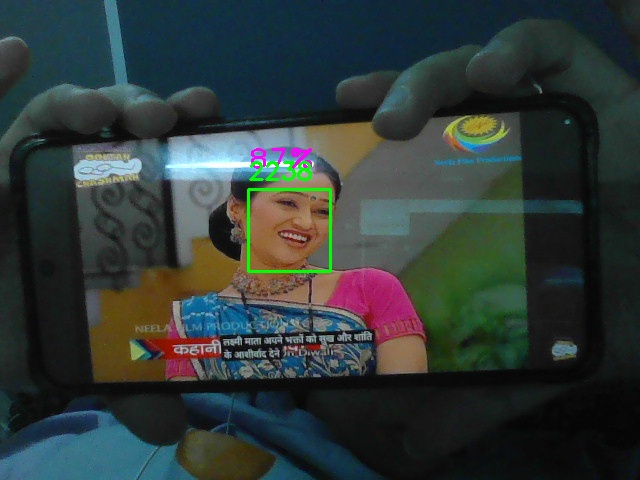fake: (248, 189, 331, 272)
